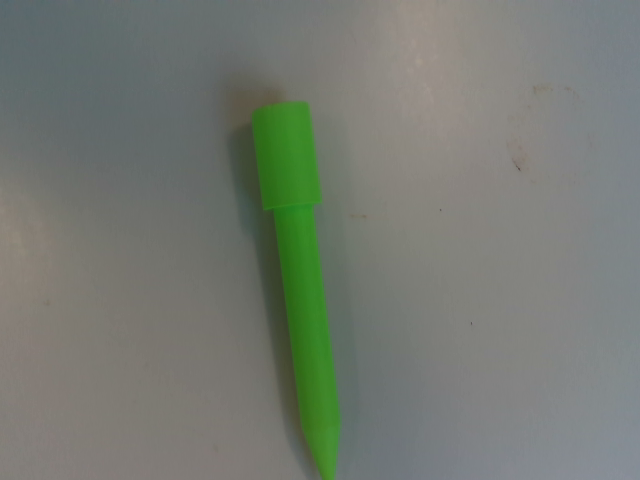Probe: (241, 95, 349, 480)
